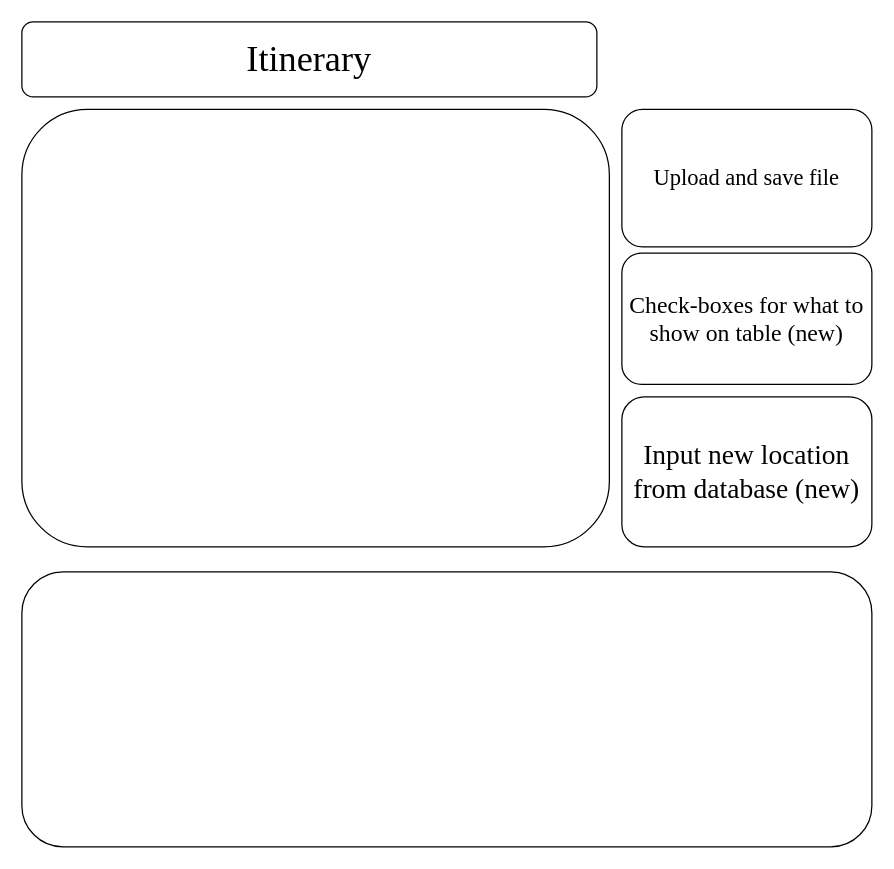
Some shapes in this 894 by 869 pixel diagram are drawn without their labels. Each missing label, with the box of its shape:
Map: (21, 108, 609, 547)
Table printing out the itinerary: (21, 571, 872, 847)
